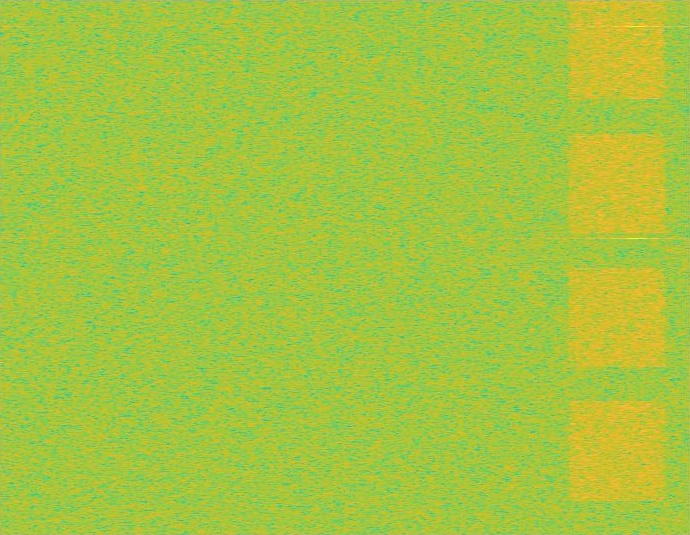5G: (566, 0, 669, 534)
Radar: (629, 0, 643, 534)
